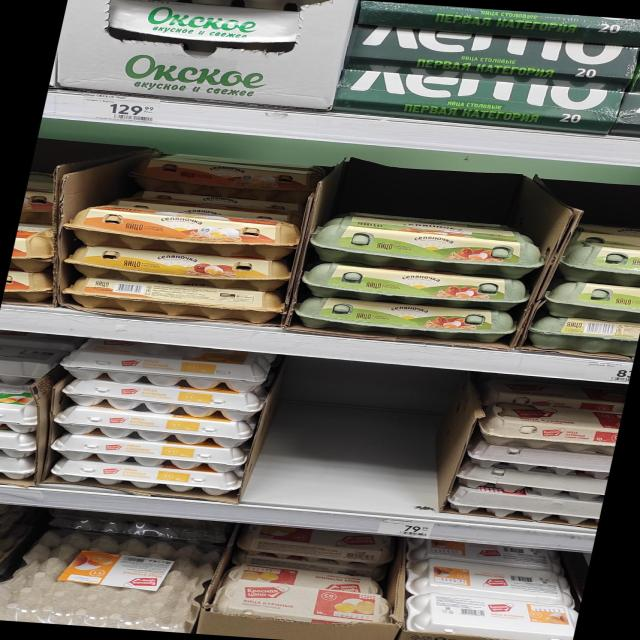organic waste: (302, 209, 548, 282), (61, 203, 303, 261), (59, 336, 278, 394), (296, 259, 534, 312), (292, 294, 521, 346), (63, 243, 295, 292), (94, 0, 310, 52), (54, 377, 272, 426), (48, 404, 265, 452), (42, 432, 259, 478), (39, 458, 256, 501), (210, 580, 396, 630), (399, 592, 580, 640), (401, 558, 578, 606), (473, 400, 622, 454), (543, 278, 639, 324), (552, 240, 639, 287), (540, 316, 640, 354), (0, 336, 59, 388), (8, 222, 66, 272), (20, 179, 74, 223), (0, 383, 43, 435), (1, 270, 58, 305), (0, 428, 41, 459), (0, 453, 36, 481)
